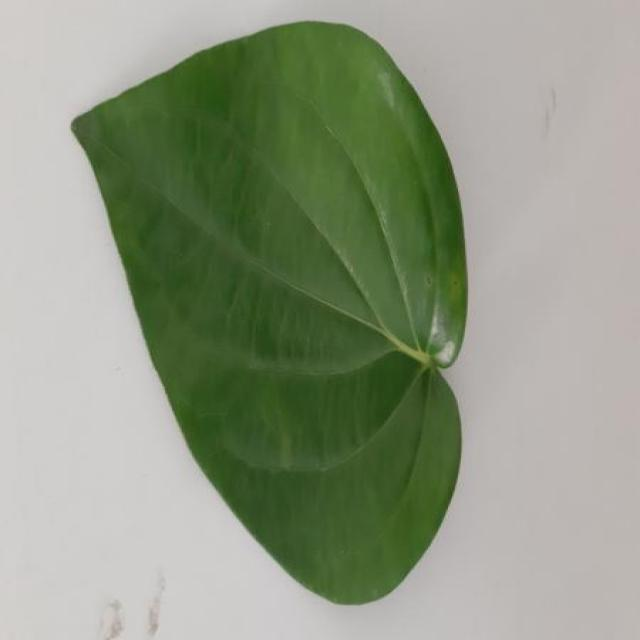betel: (73, 22, 465, 603)
